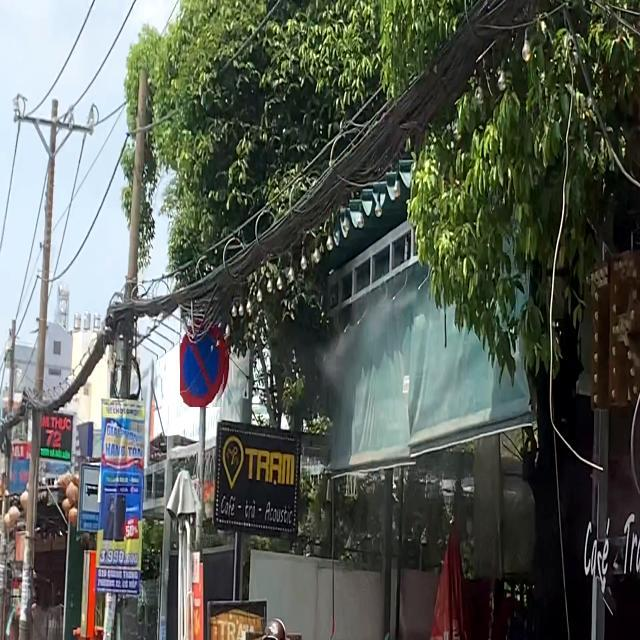P-131a: (180, 328, 229, 407)
